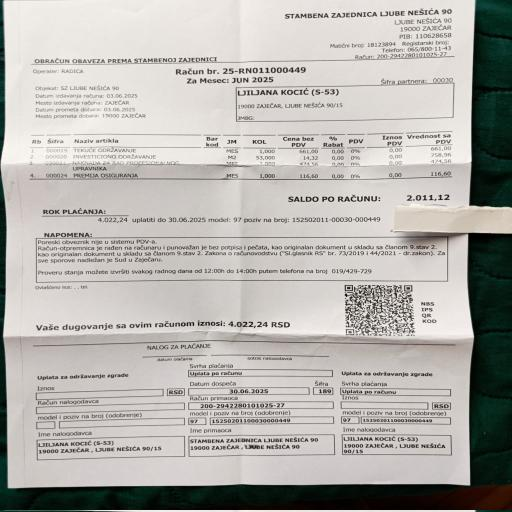stambena_zajednica: (44, 131, 455, 180)
stambena_zajednica_iznos: (34, 320, 308, 341)
